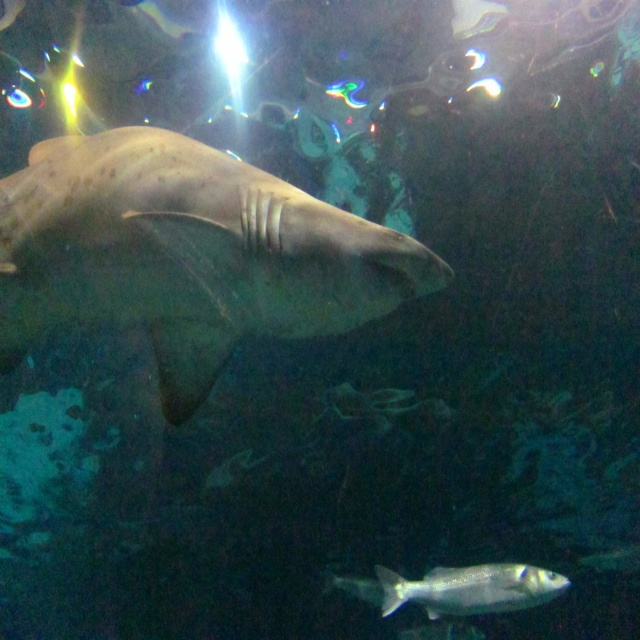Shark: (0, 122, 459, 427)
